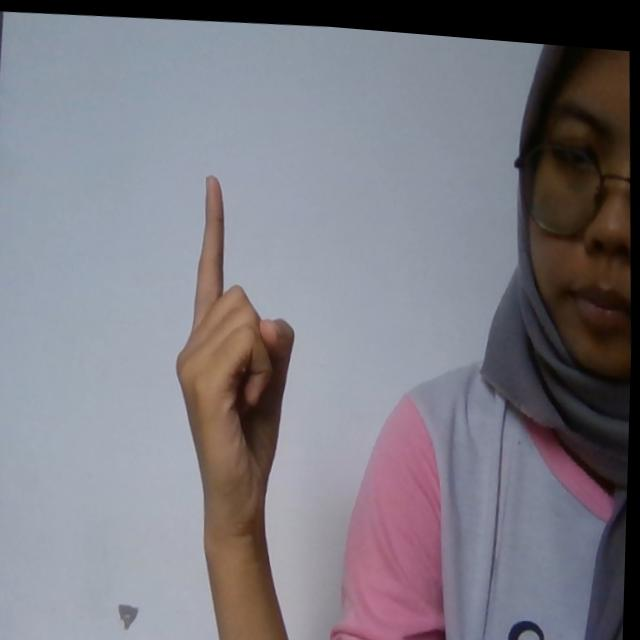D: (167, 164, 308, 520)
